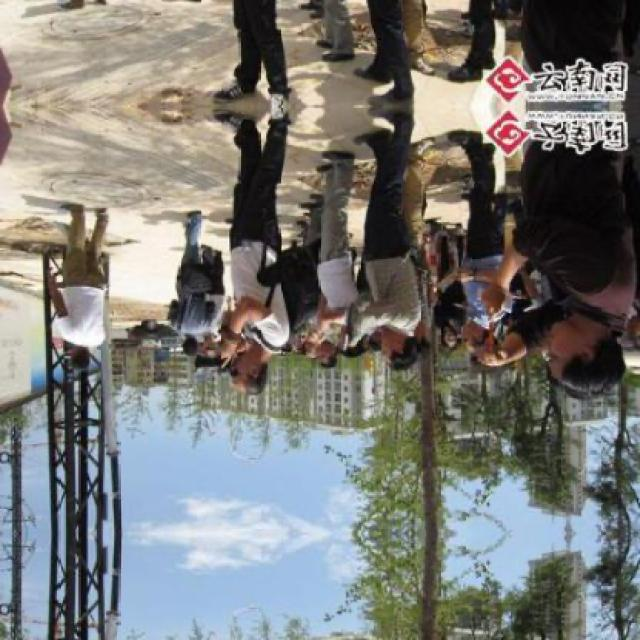sin casco: (508, 306, 640, 404), (354, 323, 428, 383), (226, 343, 287, 400)
